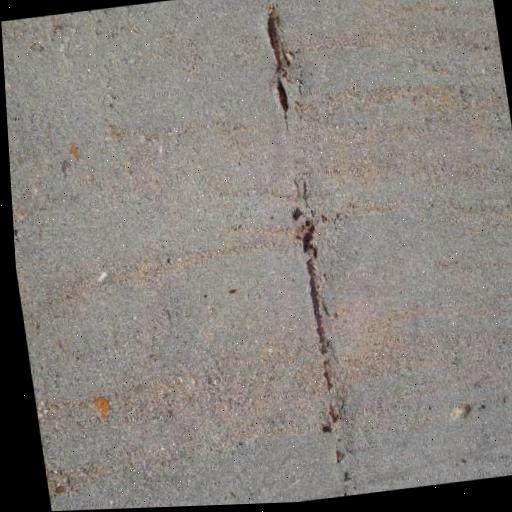exposed_rebar: (301, 218, 332, 390), (267, 7, 290, 115), (329, 404, 339, 424), (292, 207, 305, 222), (336, 449, 344, 463), (322, 423, 331, 432), (344, 471, 349, 482)
